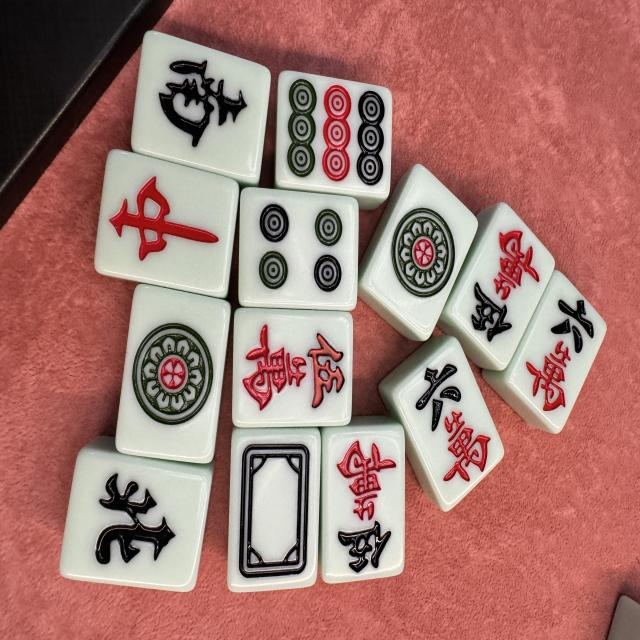hdr: (94, 149, 240, 296)
hdw: (228, 428, 321, 591)
hwn: (59, 447, 210, 593)
hws: (130, 31, 270, 180)
sc5: (448, 202, 555, 371), (233, 308, 353, 427), (323, 424, 406, 584)
sc6: (392, 336, 504, 512), (506, 271, 607, 434)
sd1: (359, 164, 477, 341), (115, 284, 230, 464)
sd9: (276, 70, 393, 196), (239, 188, 358, 310)
